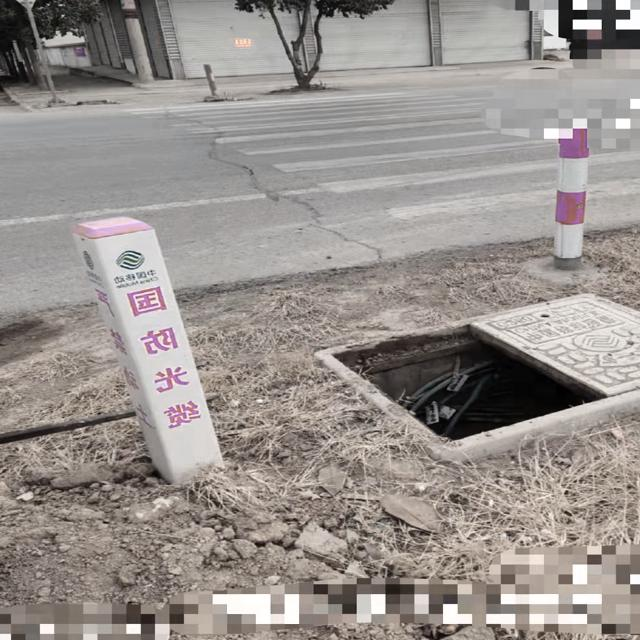lose: (291, 276, 640, 457)
